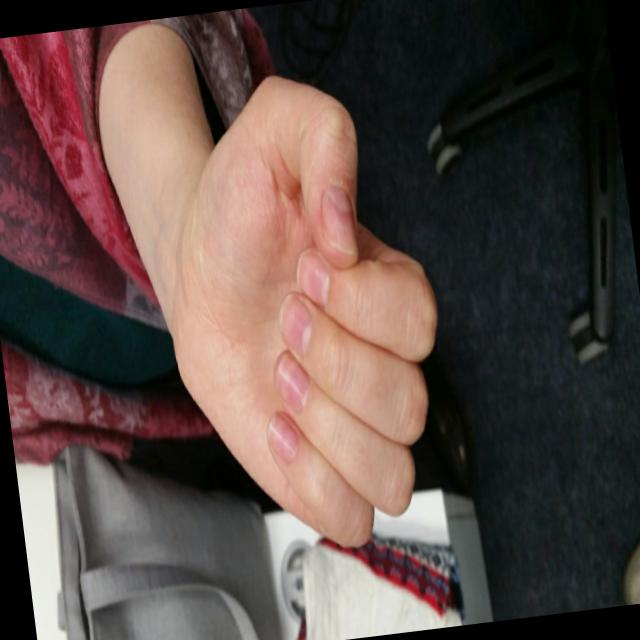Nail: (320, 186, 358, 253), (278, 293, 311, 352), (276, 353, 308, 412), (295, 250, 328, 304), (268, 411, 296, 459)
